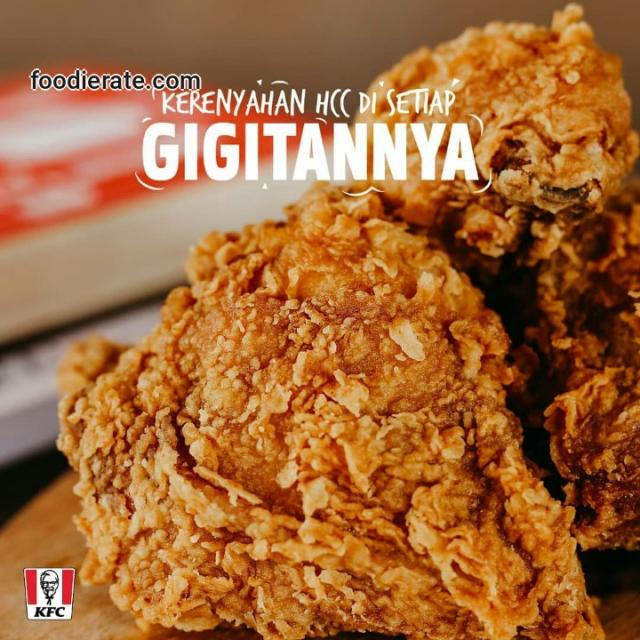Frango: (56, 189, 593, 639)
